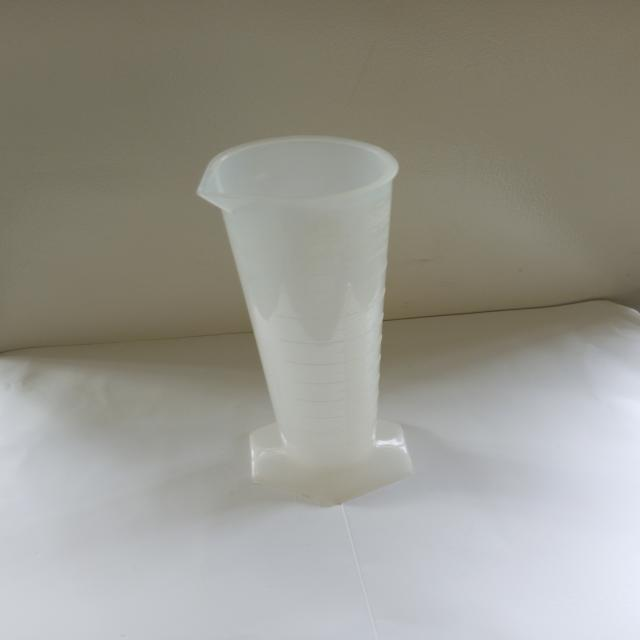graduated_cylinder: (189, 132, 423, 508)
